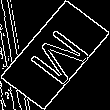M_SE: (18, 21, 92, 89)
